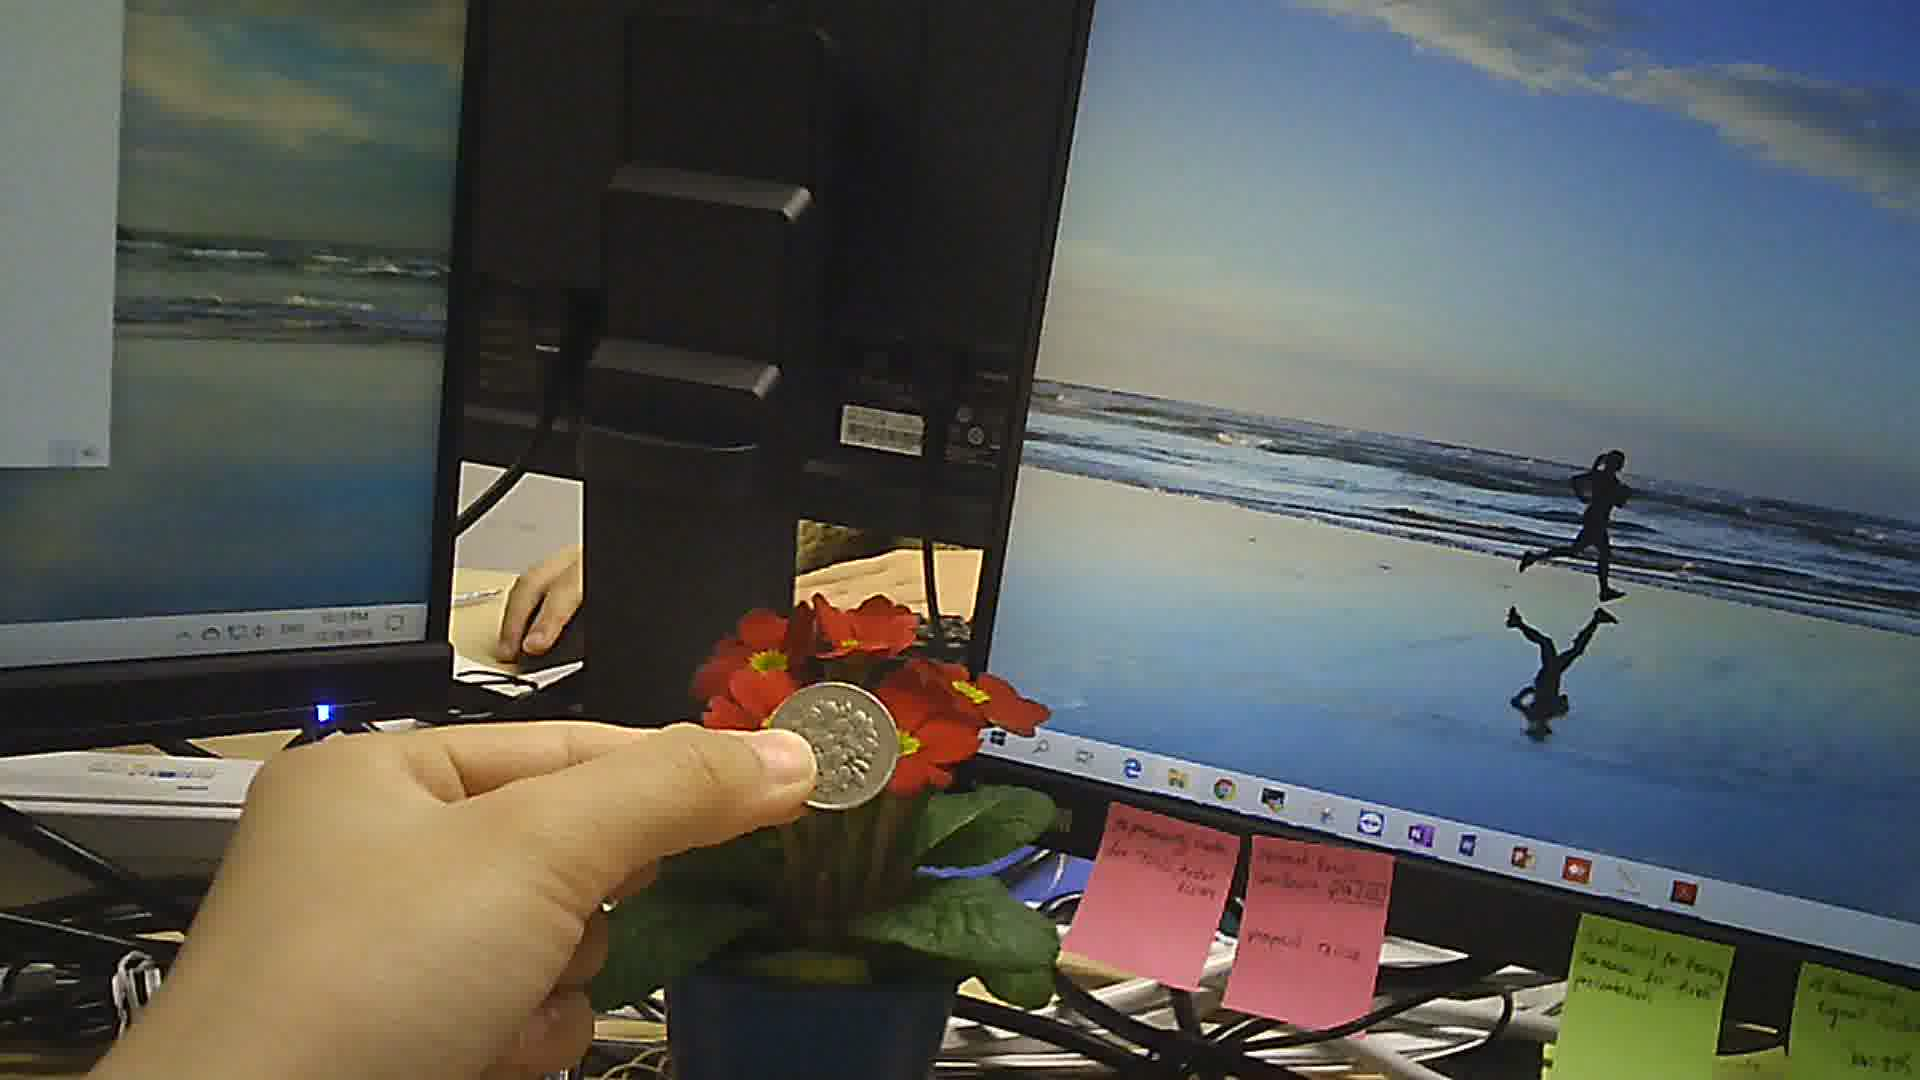100 Yen: (767, 673, 907, 815)
